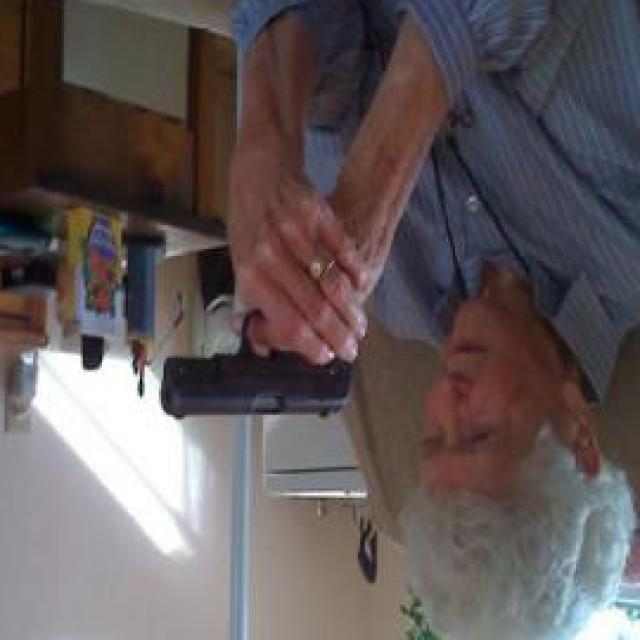pistol: (158, 263, 368, 422)
